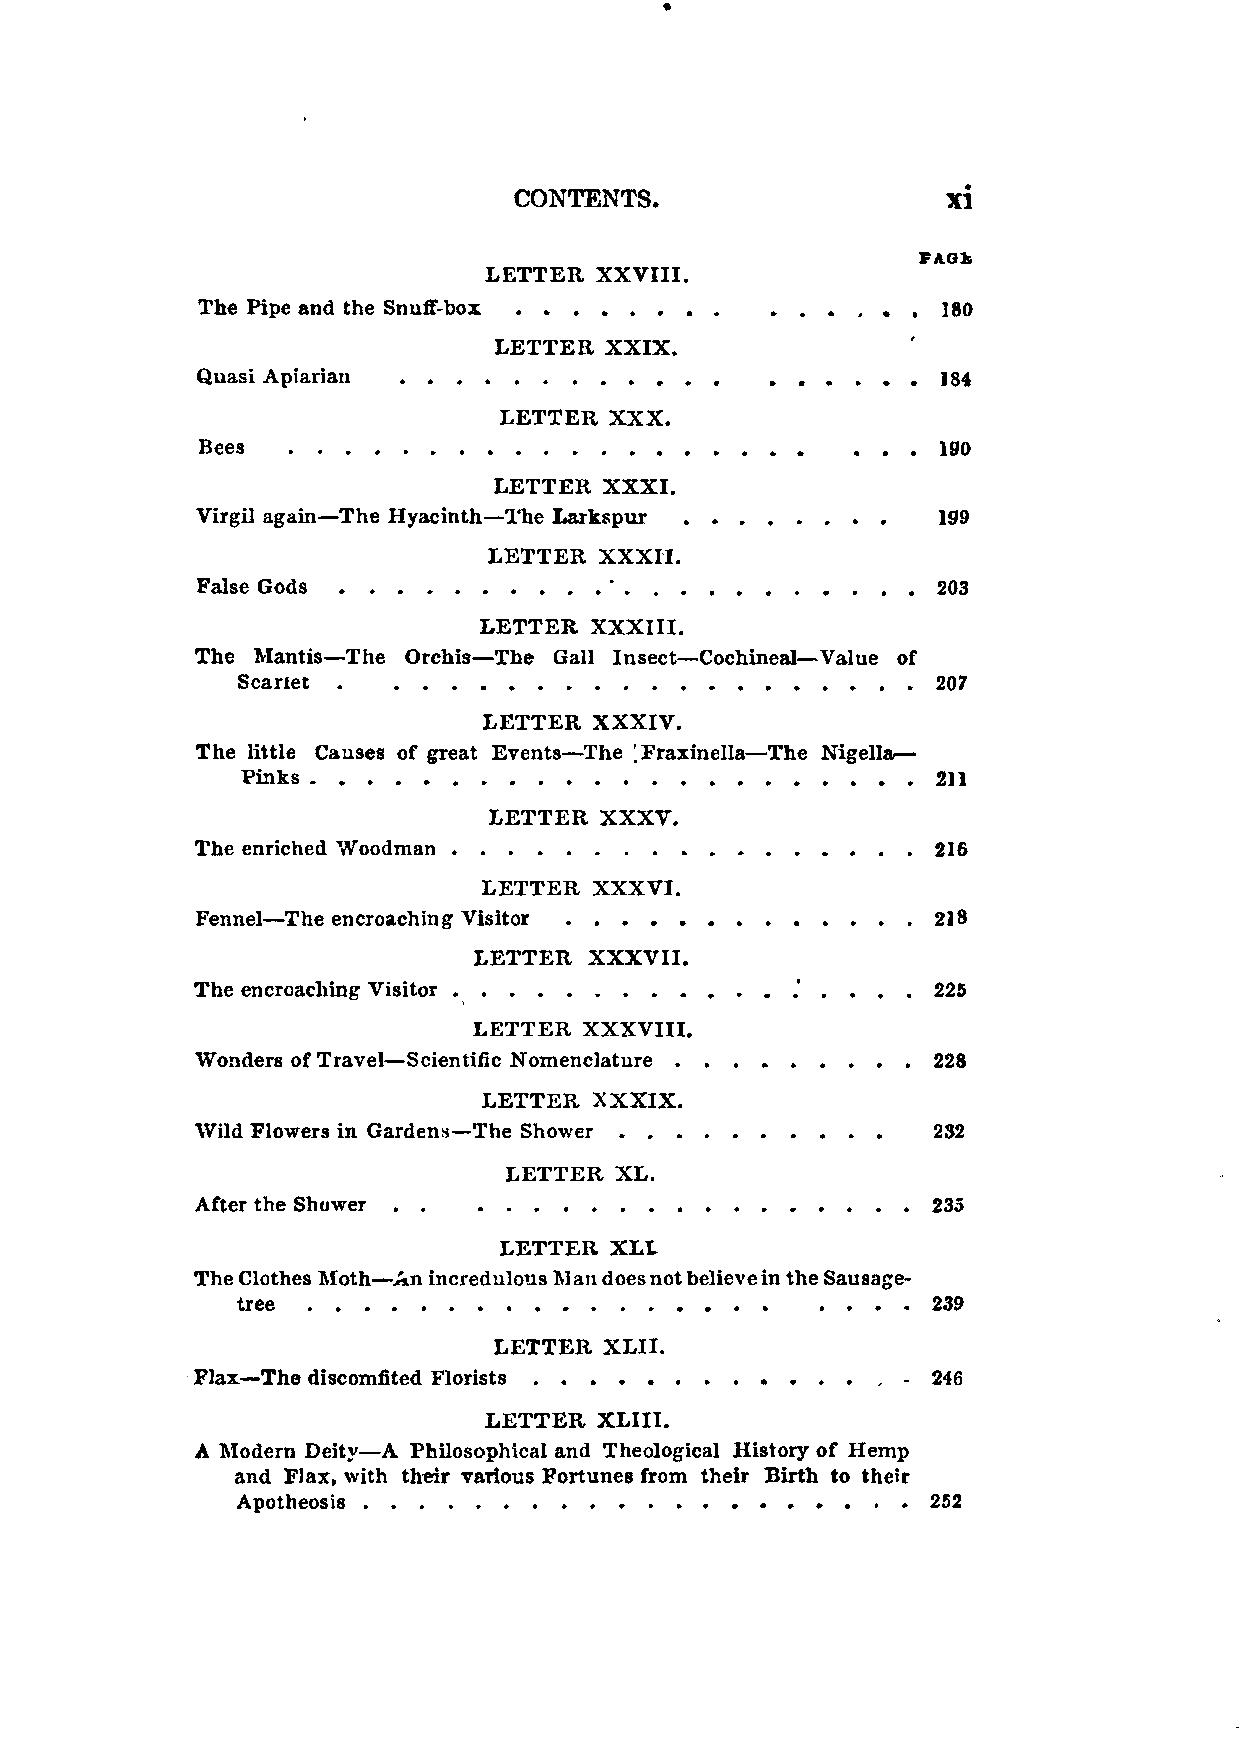TOC_chapter: (195, 1443, 913, 1511), (191, 646, 917, 692), (192, 741, 917, 786), (191, 1270, 913, 1314), (195, 505, 648, 530), (192, 1045, 654, 1070), (193, 1117, 595, 1141), (195, 905, 531, 929), (191, 1363, 509, 1388), (195, 291, 483, 317), (480, 259, 691, 285), (474, 707, 683, 733), (474, 874, 680, 899), (470, 1016, 694, 1039), (483, 542, 683, 568), (191, 978, 440, 998), (468, 946, 688, 969), (488, 334, 682, 360), (476, 613, 684, 636), (479, 1087, 684, 1110), (490, 472, 676, 497), (483, 805, 678, 828), (195, 837, 433, 855), (195, 362, 349, 389), (191, 1189, 366, 1212), (493, 1334, 666, 1357), (503, 1159, 656, 1185), (494, 1235, 659, 1257), (493, 407, 675, 427), (484, 1409, 671, 1428), (509, 184, 662, 207), (195, 574, 313, 595), (195, 432, 246, 456)
TOC_pagenumber: (941, 295, 977, 319), (934, 503, 972, 526), (939, 435, 973, 459), (938, 368, 976, 389), (933, 836, 969, 858), (930, 1290, 964, 1312), (929, 1049, 966, 1070), (934, 577, 970, 597), (931, 907, 968, 927), (933, 671, 968, 691), (935, 768, 968, 788), (931, 1366, 964, 1386), (930, 1194, 966, 1212), (934, 980, 969, 997), (934, 1121, 966, 1139), (929, 1490, 962, 1507)
content_pagenumber: (941, 183, 978, 211)
